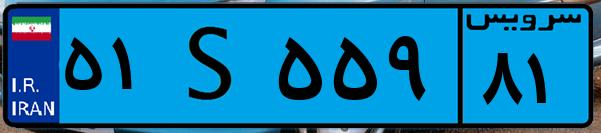1: (525, 38, 570, 115), (110, 28, 158, 98)
5: (270, 28, 330, 110), (330, 28, 385, 110), (57, 26, 110, 100)
8: (475, 38, 525, 113)
9: (385, 28, 445, 110)
S: (158, 12, 270, 120)
